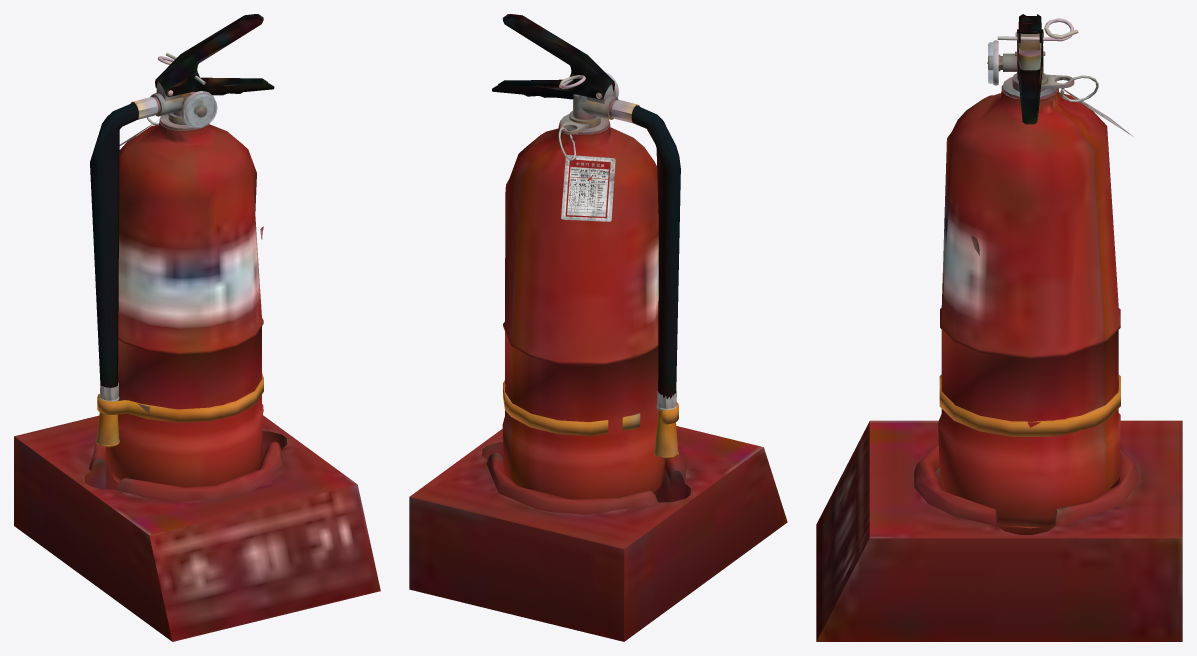
3 renders of one model, left to right at view 1: azimuth 30°, elevation 25°; view 2: azimuth 150°, elevation 25°; view 3: azimuth 270°, elevation 25°, orthographic. The views are drawn at different scales.
Parts seen in each view (by area): view 1: korean_fire_extinguisher_01; view 2: korean_fire_extinguisher_01; view 3: korean_fire_extinguisher_01.
Part boxes in pixels (x1,y1,x2,y2): korean_fire_extinguisher_01: [14, 14, 380, 641]; korean_fire_extinguisher_01: [409, 14, 787, 641]; korean_fire_extinguisher_01: [816, 14, 1182, 641].
Size of the model in its own units: 0.279 by 0.6591 by 0.3674.
Materials: 3 (3 with a texture image).
